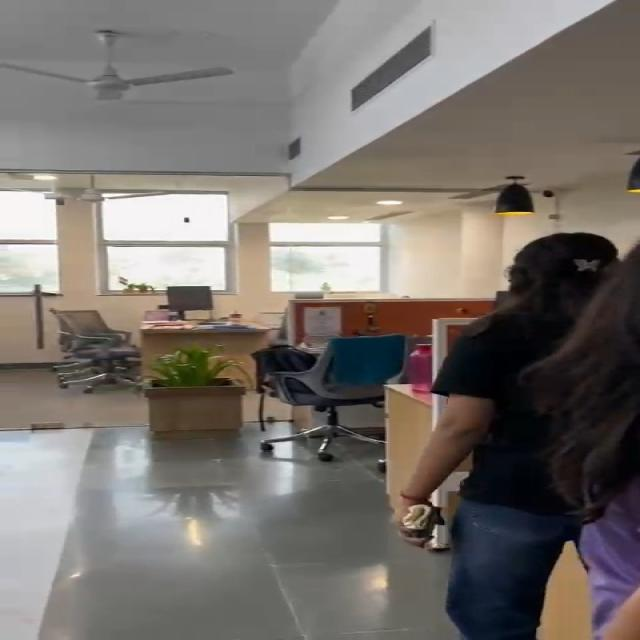floor: (0, 431, 247, 640)
furniture: (246, 331, 404, 462), (105, 322, 242, 441), (49, 288, 114, 376), (152, 280, 234, 336)
moving_object: (454, 224, 640, 625)
wall: (14, 137, 640, 233)
